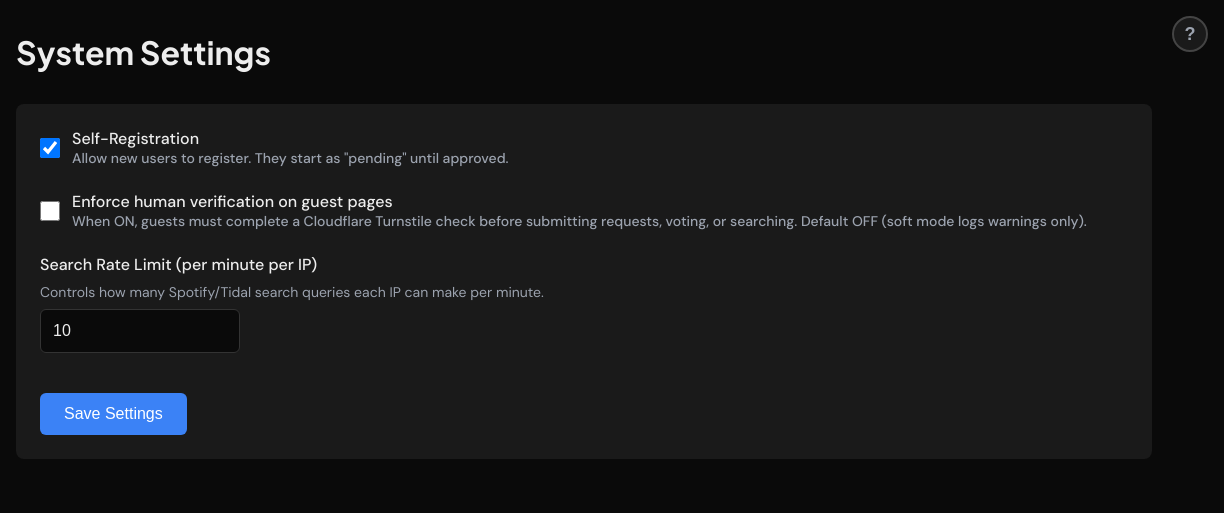
Test: AdminSettingsPage › saves settings successfully
The image size is (1224, 513).
Toggle registration off
Click the 1st checkbox at (50, 148), box [40, 138, 60, 158]
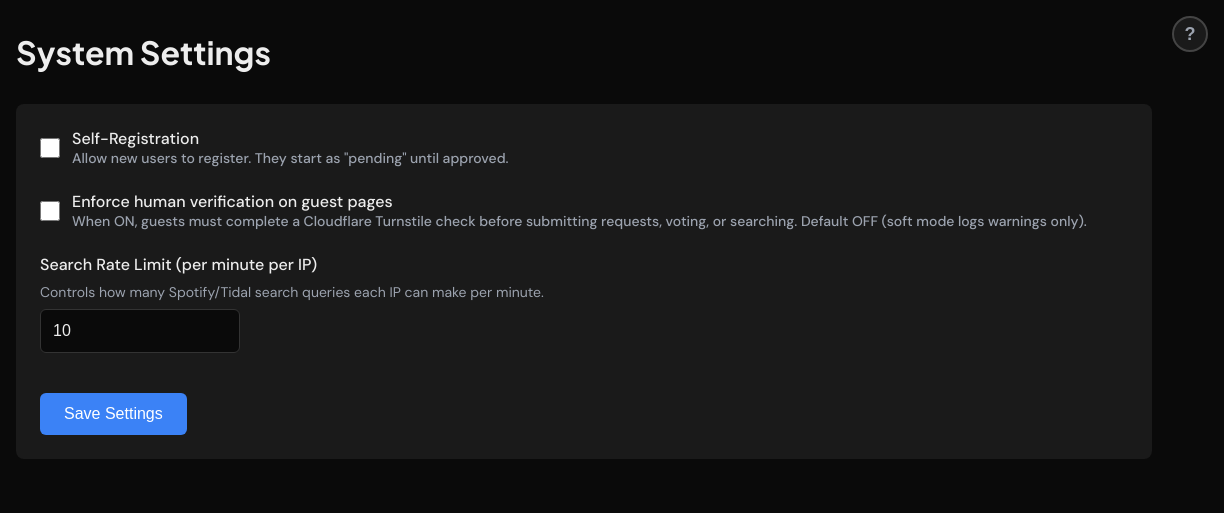
Click save and flush async
Click the button "Save Settings" at (113, 414), box [40, 393, 187, 435]
Wait 100 ms
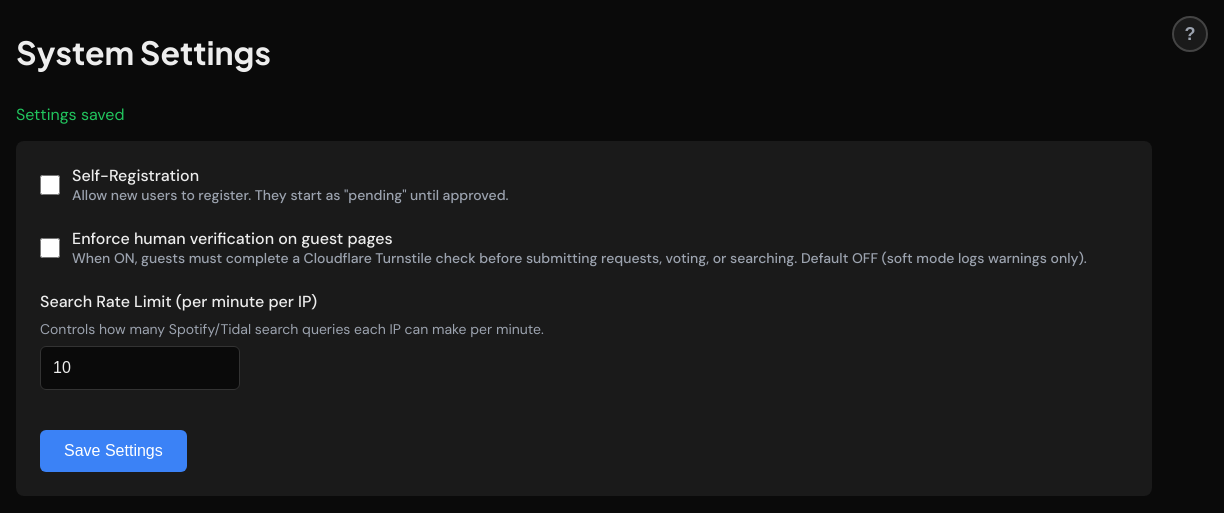
Now the text "Settings saved" is shown, box [16, 104, 124, 125]
